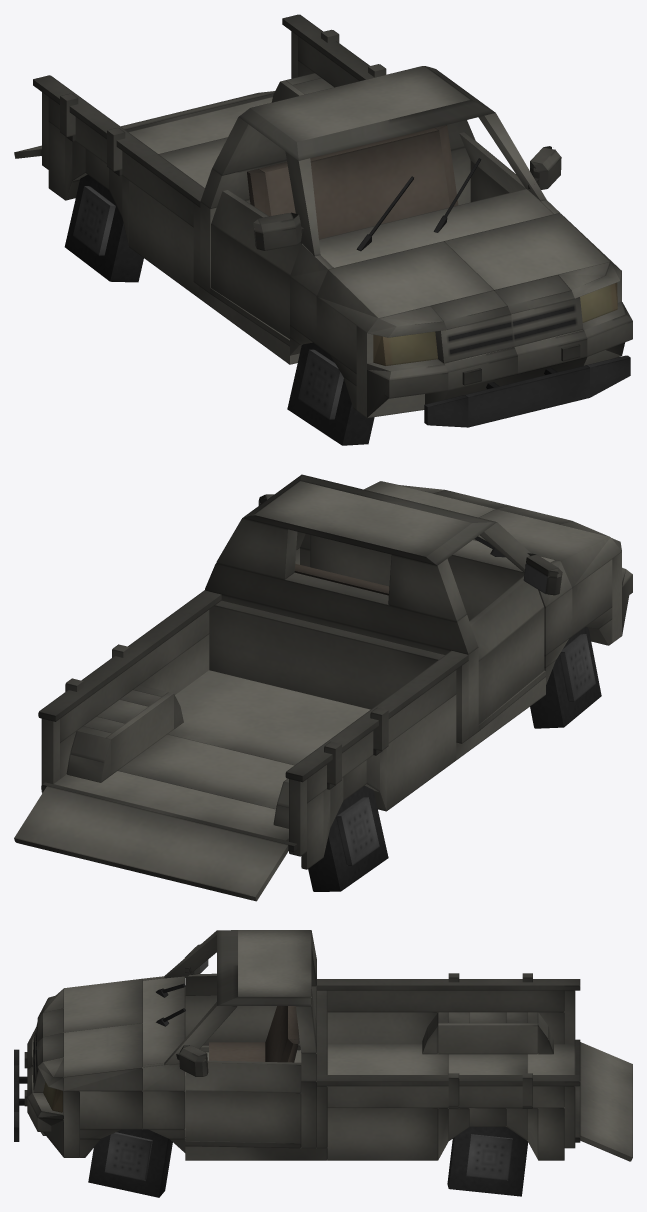
The model's file is truck_wreckage5.obj.
3 views of the same model, one above another, from view 1: azimuth 30°, elevation 25°; view 2: azimuth 150°, elevation 25°; view 3: azimuth 270°, elevation 25° (orthographic). The views are drawn at different scales.
Parts seen in each view (by area): view 1: bodyModel82, bodyModel142, bodyModel63, bodyModel71, bodyModel80, bodyModel122, bodyModel58, bodyModel3, bodyModel15, bodyModel133, bodyModel14, bodyModel131 (+48 smaller); view 2: bodyModel13, bodyModel8, bodyModel82, bodyModel48, bodyModel128, bodyModel49, bodyModel80, bodyModel14, bodyModel58, bodyModel63, bodyModel122, bodyModel100 (+29 smaller); view 3: bodyModel82, bodyModel126, bodyModel45, bodyModel51, bodyModel13, bodyModel71, bodyModel9, bodyModel63, bodyModel48, bodyModel58, bodyModel127, bodyModel61 (+45 smaller).
Boxes of the visible parts, bbox=[...] form: bodyModel82: bbox=[239, 66, 495, 160]; bodyModel142: bbox=[258, 128, 449, 239]; bodyModel63: bbox=[316, 241, 494, 332]; bodyModel71: bbox=[444, 213, 621, 289]; bodyModel80: bbox=[319, 189, 553, 267]; bodyModel122: bbox=[211, 224, 289, 338]; bodyModel58: bbox=[129, 180, 199, 298]; bodyModel3: bbox=[465, 365, 589, 427]; bodyModel15: bbox=[33, 75, 204, 207]; bodyModel133: bbox=[64, 174, 143, 282]; bodyModel14: bbox=[128, 97, 272, 153]; bodyModel131: bbox=[287, 342, 374, 445]; bodyModel13: bbox=[14, 786, 288, 901]; bodyModel8: bbox=[209, 600, 468, 743]; bodyModel82: bbox=[242, 474, 496, 565]; bodyModel48: bbox=[167, 670, 370, 765]; bodyModel128: bbox=[205, 563, 478, 654]; bodyModel49: bbox=[118, 734, 294, 809]; bodyModel80: bbox=[310, 535, 554, 620]; bodyModel14: bbox=[53, 771, 288, 841]; bodyModel58: bbox=[386, 694, 456, 810]; bodyModel63: bbox=[473, 509, 621, 587]; bodyModel122: bbox=[478, 608, 544, 724]; bodyModel100: bbox=[38, 590, 221, 721]; bodyModel82: bbox=[217, 930, 311, 1005]; bodyModel126: bbox=[185, 1090, 301, 1144]; bodyModel45: bbox=[327, 1108, 438, 1160]; bodyModel51: bbox=[327, 990, 564, 1012]; bodyModel13: bbox=[579, 1042, 632, 1161]; bodyModel71: bbox=[64, 1023, 142, 1091]; bodyModel9: bbox=[327, 1086, 564, 1107]; bodyModel63: bbox=[64, 978, 142, 1032]; bodyModel48: bbox=[327, 1044, 448, 1074]; bodyModel58: bbox=[327, 1012, 438, 1044]; bodyModel127: bbox=[185, 1060, 301, 1093]; bodyModel61: bbox=[438, 1023, 538, 1054].
Size of the model in its own units: 3.28 by 2.45 by 7.34.
1 material, 1 textured.
